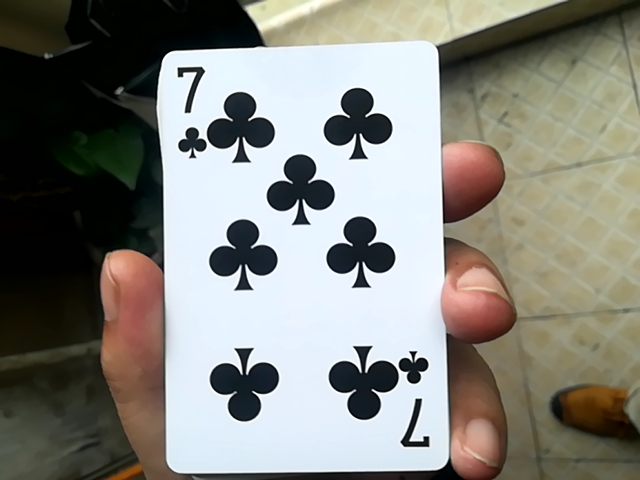mh 7: (137, 43, 457, 477)
